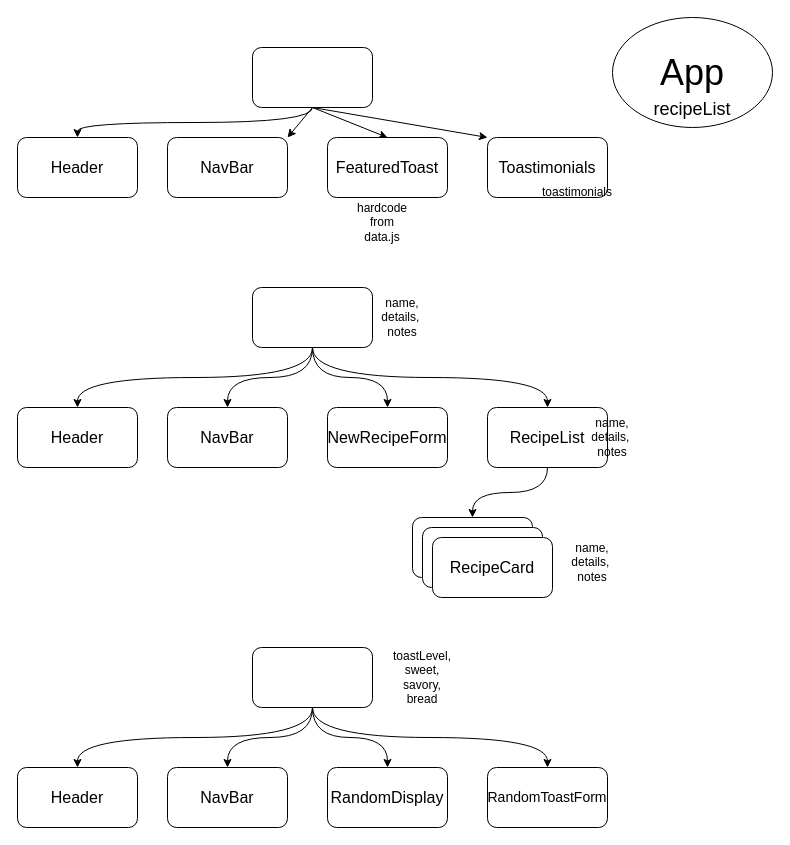
The diagram is 790 pixels wide and 845 high, and some of its shapes have lost their labels. Here are the shapes that lost their labels. From the top down, the centre of each, then its label:
At pixel 312 77: "Home".
At pixel 312 317: "Recipes".
At pixel 312 677: "RandomToast".
